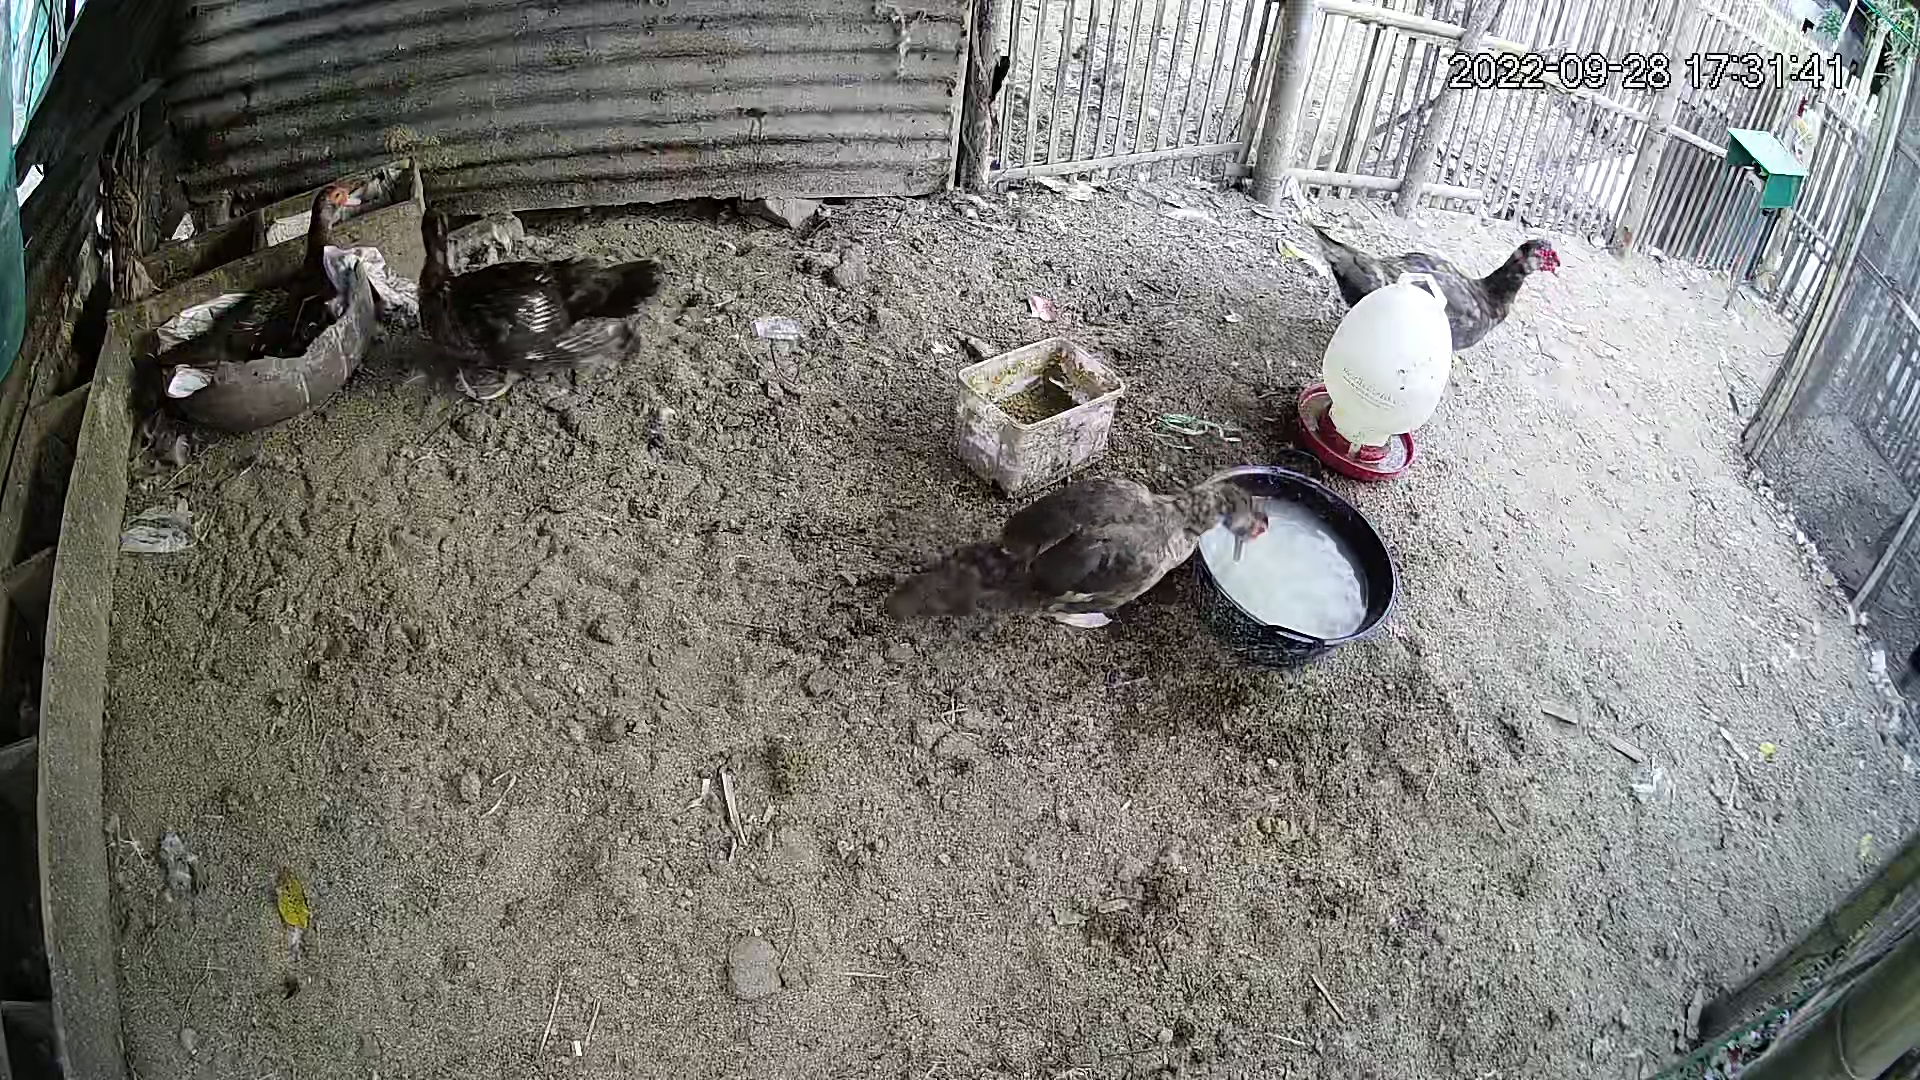Mengeram: (94, 156, 384, 429)
